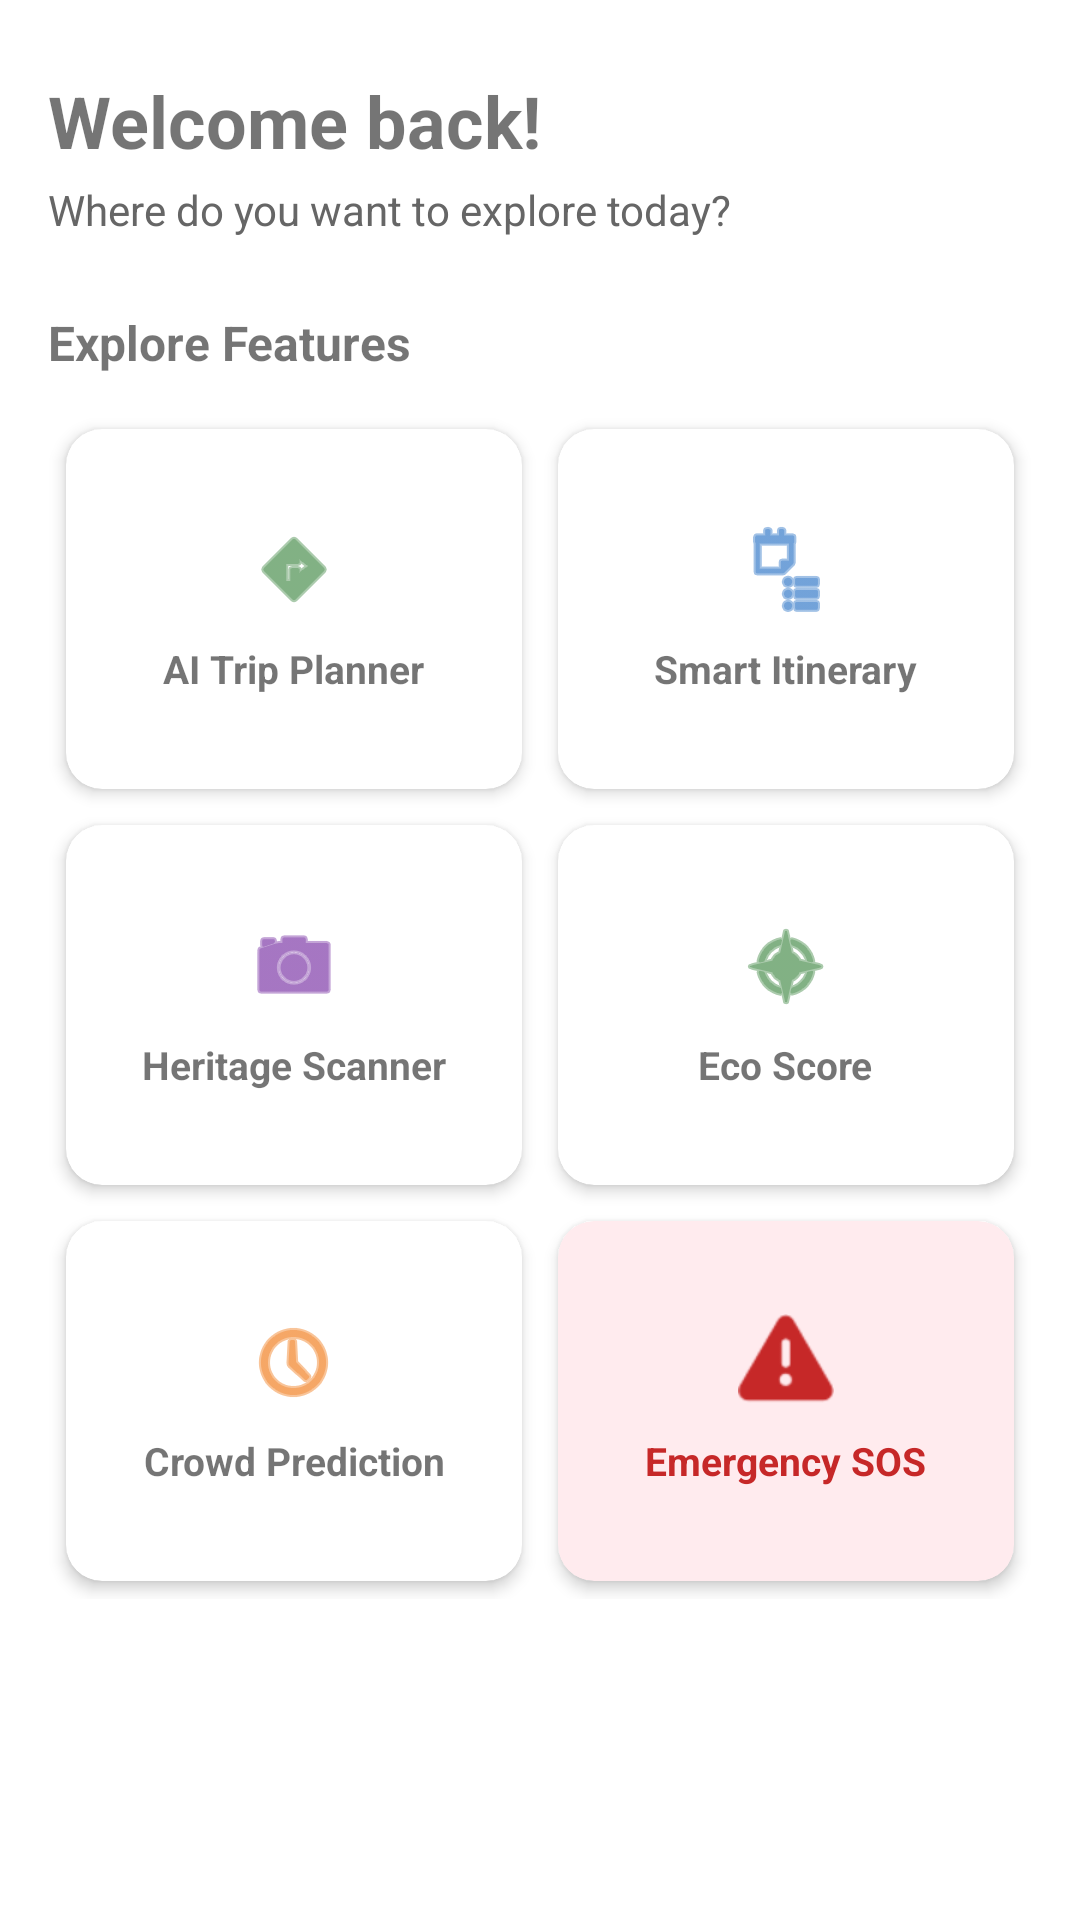

Screen size 1080 × 1920. Icon name, then its center in pixels as point (x, y):
agenda: point (786, 569)
alert: point (786, 1358)
camera: point (294, 964)
compass: point (786, 966)
directions: point (294, 569)
recent history: point (293, 1362)
